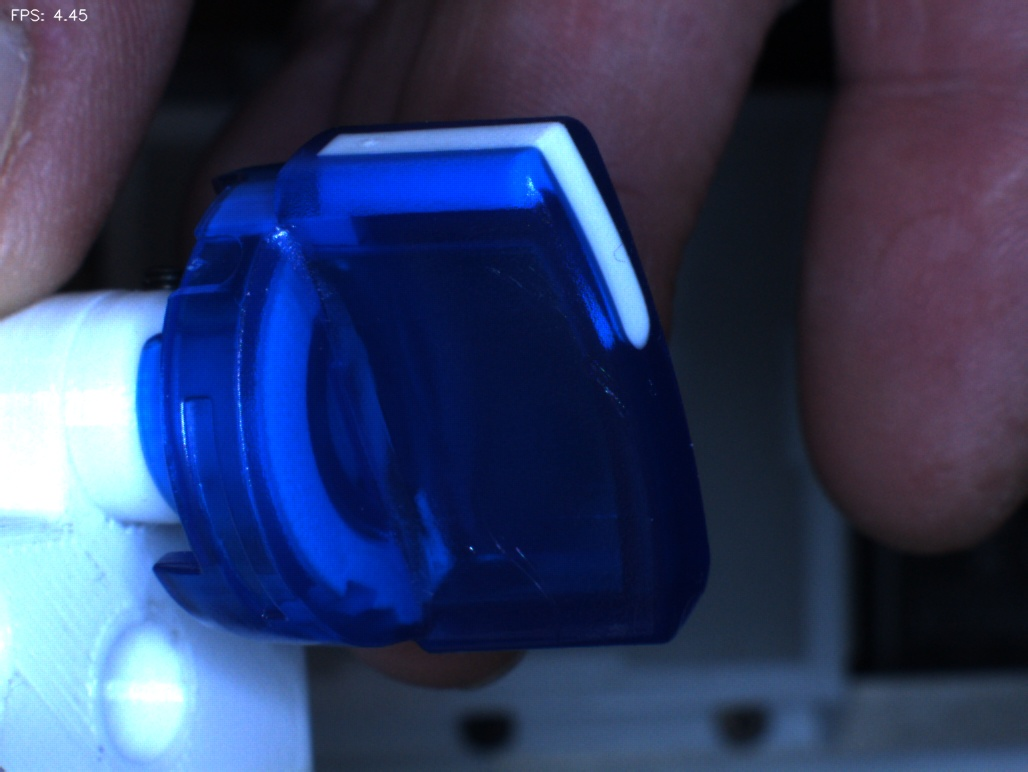Givrage: (497, 243, 621, 436), (480, 506, 567, 631)
